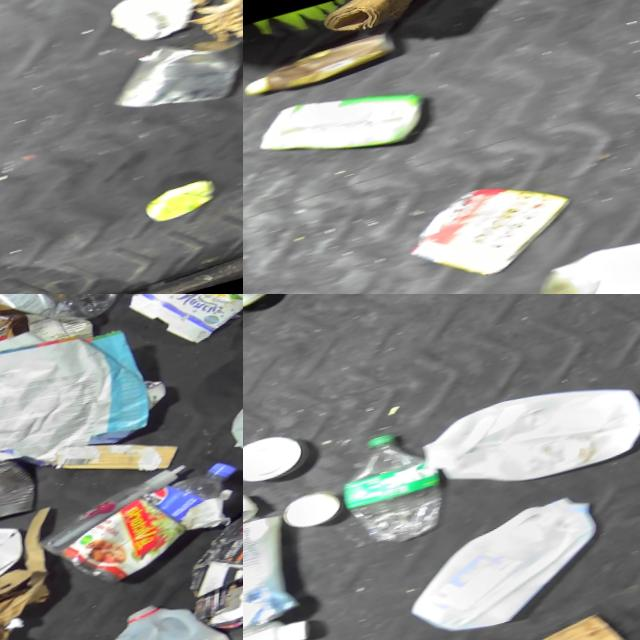can: (101, 24, 243, 130), (525, 219, 640, 294), (243, 429, 311, 490), (277, 486, 346, 534), (0, 456, 39, 535)
milk_jug: (394, 491, 615, 640), (414, 366, 640, 507), (92, 585, 243, 640), (216, 377, 243, 488)
plastic_bottle: (330, 424, 455, 555), (0, 294, 126, 348)
